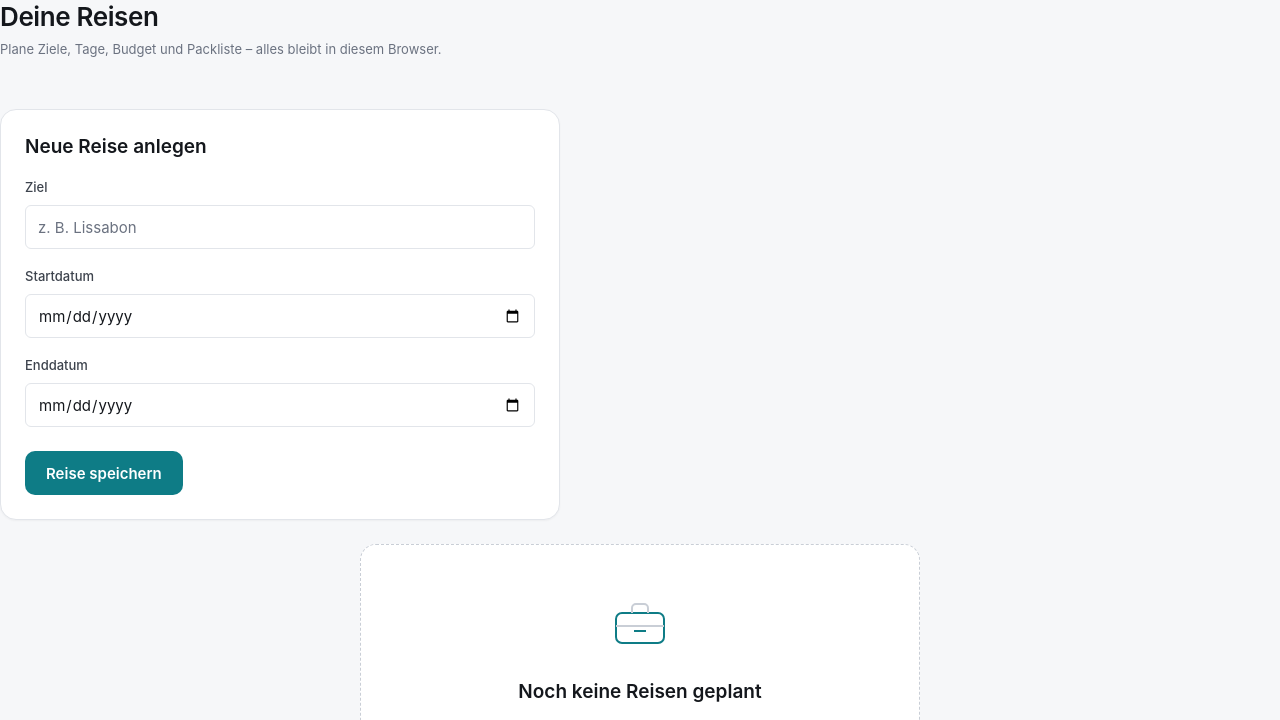
it: TripListPage › keeps the trip when the confirmation is cancelled
The width and height of the screenshot is (1280, 720).
Type "Lissabon" into the field labelled "Ziel" at (280, 227), box [25, 205, 535, 249]
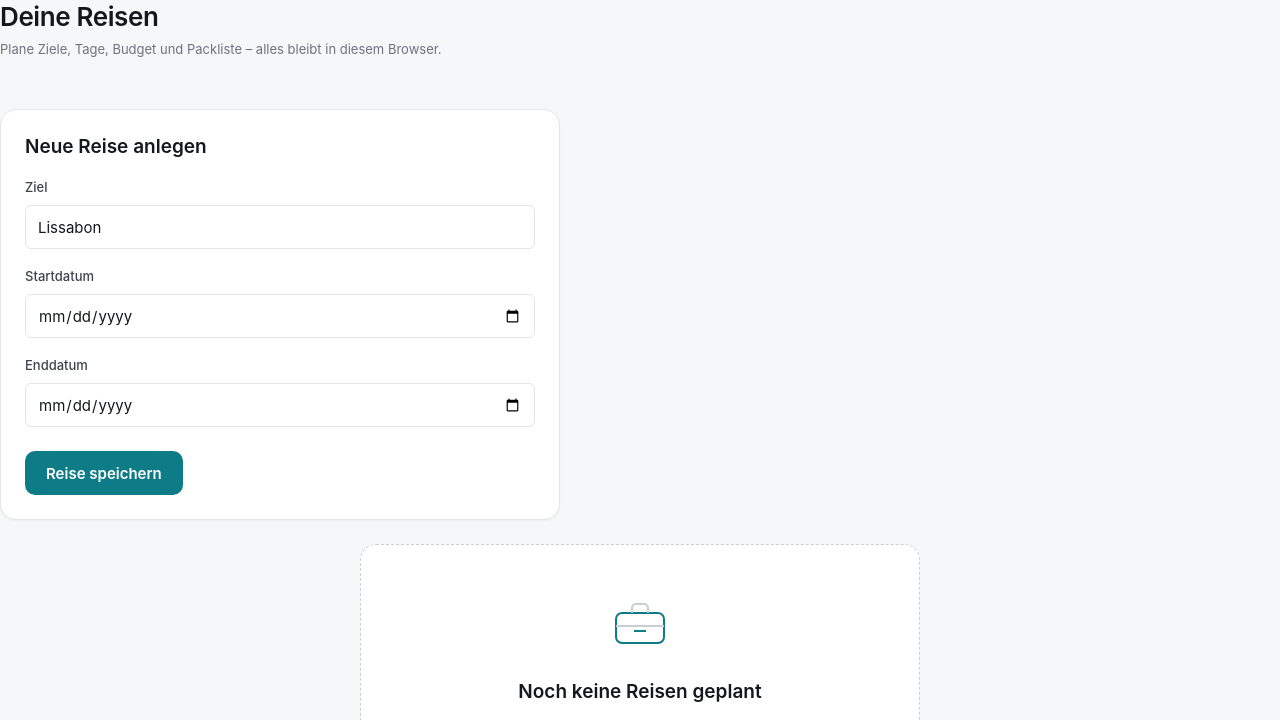
Type "2025-05-12" into the date field labelled "Startdatum" at (280, 316), box [25, 294, 535, 338]
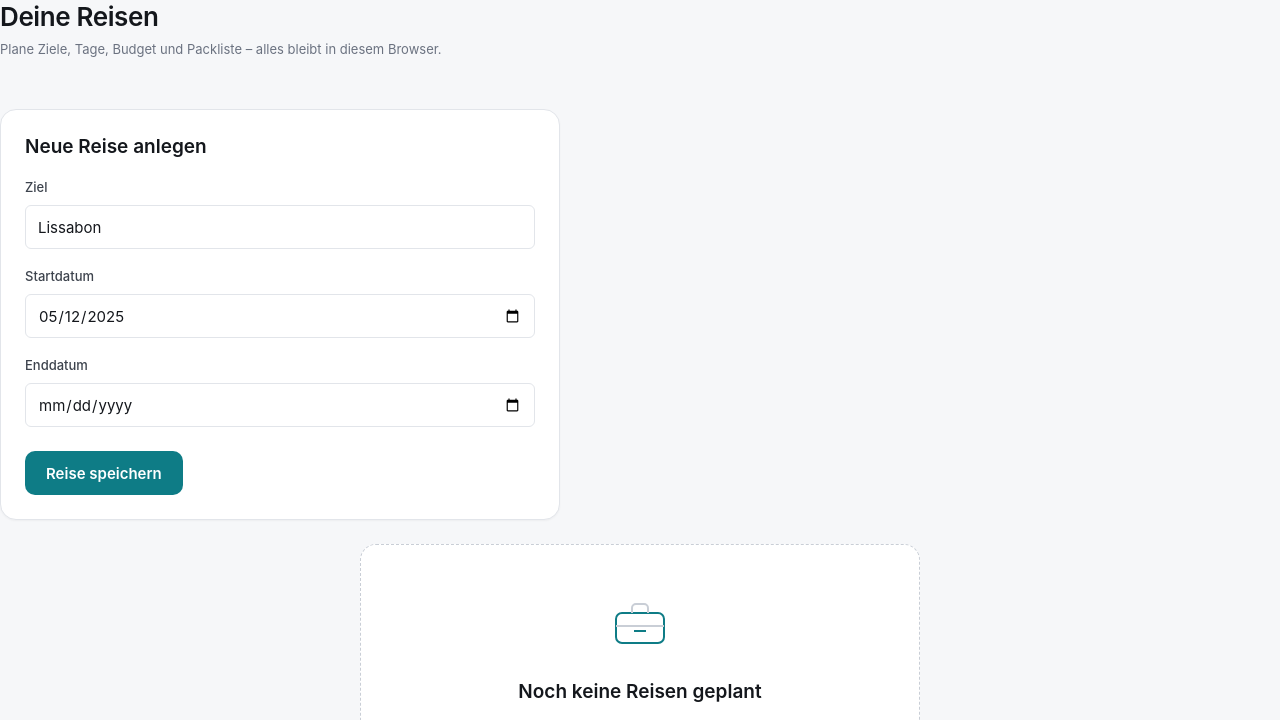
Type "2025-05-18" into the date field labelled "Enddatum" at (280, 405), box [25, 383, 535, 427]
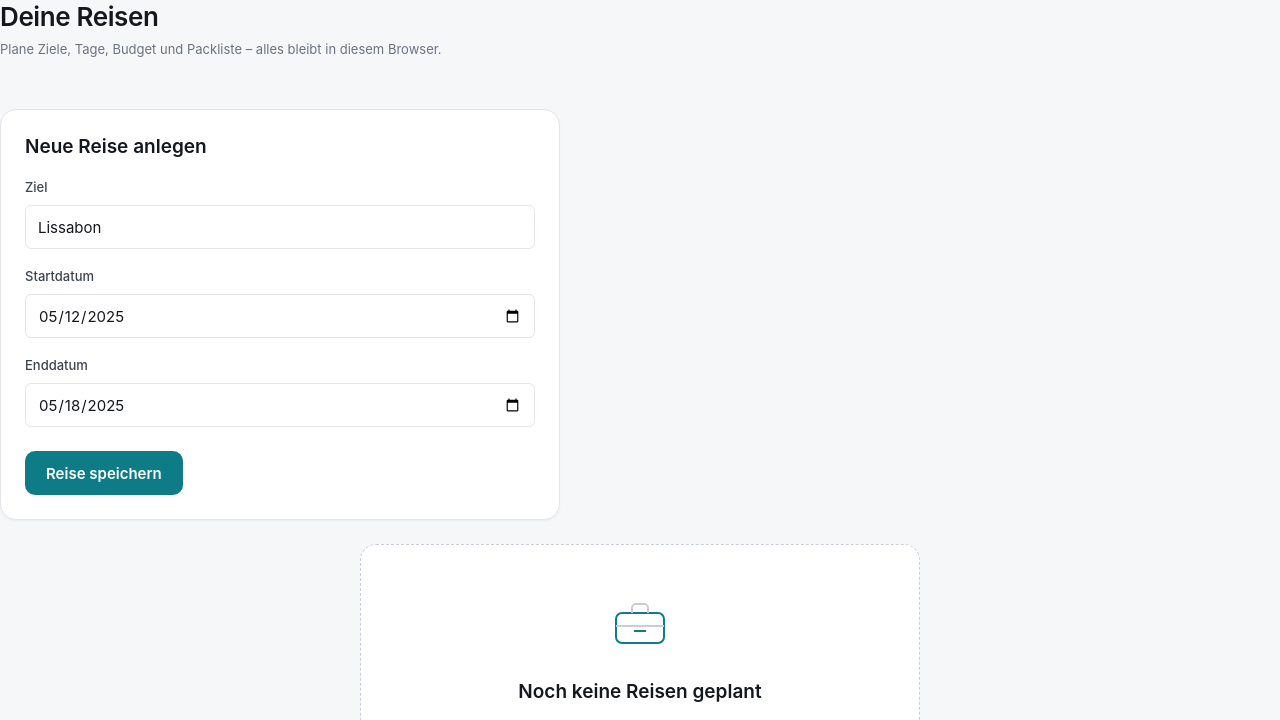
Click the button "Reise speichern" at (104, 473), box [25, 451, 183, 495]
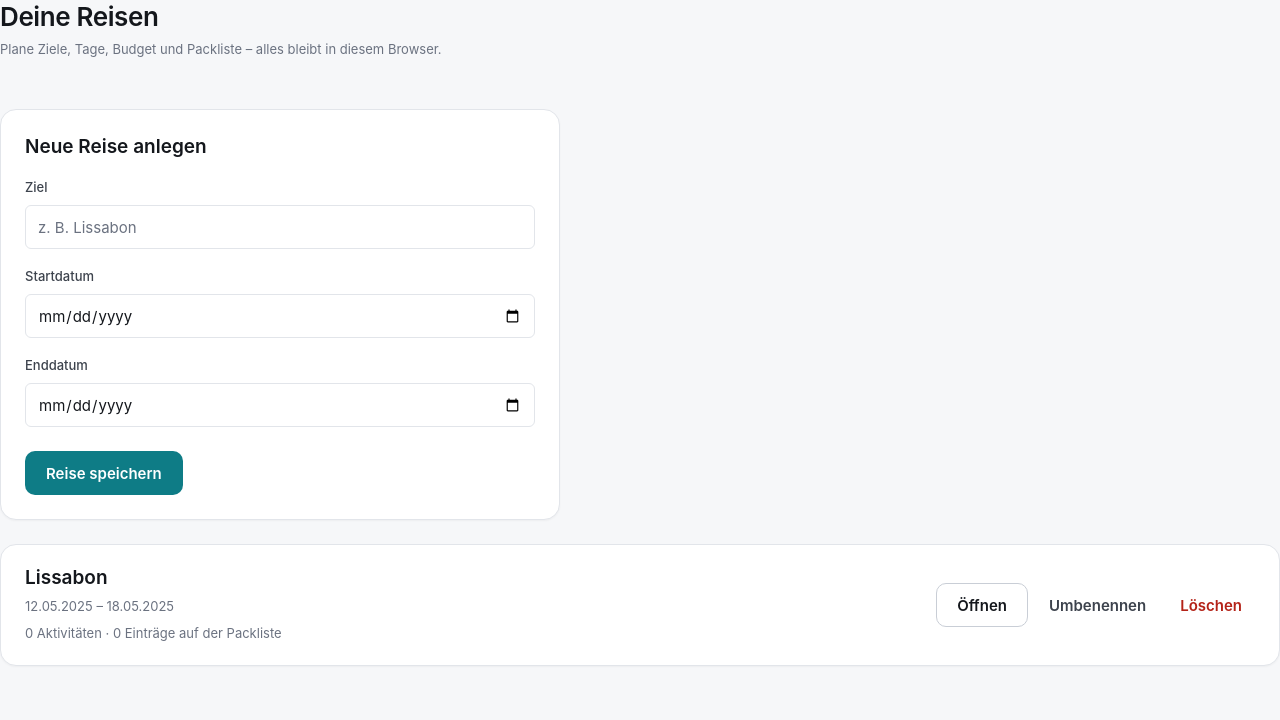
Click the button with aria-label "Reise Lissabon löschen" at (1211, 605), box [1167, 583, 1255, 627]
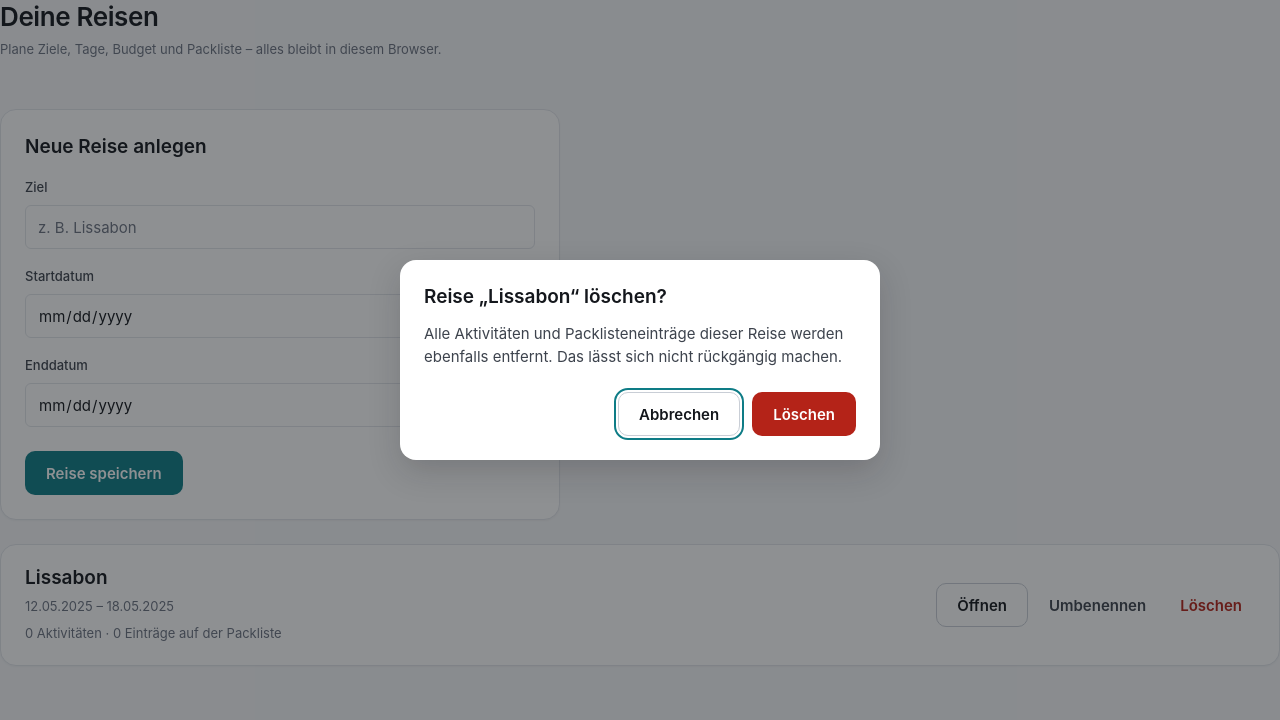
Click the button "Abbrechen" at (679, 414), box [618, 392, 740, 436]
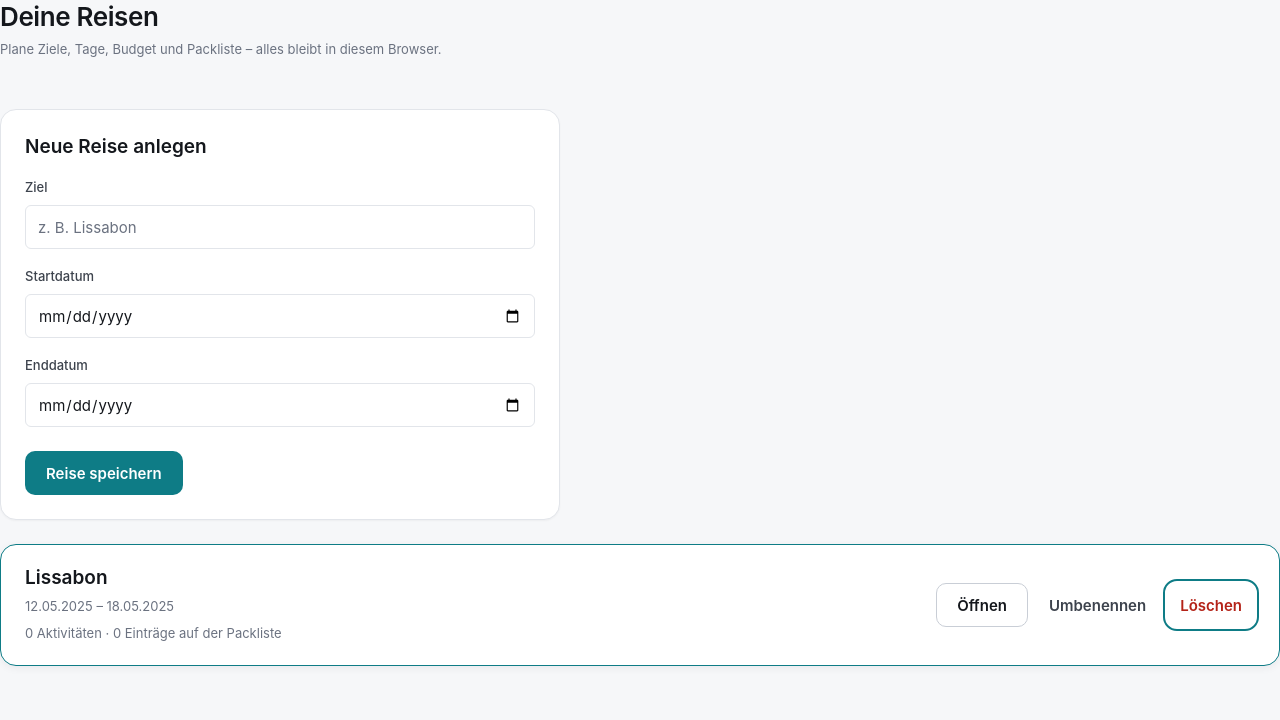
Check: the heading "Lissabon" is shown, box [25, 566, 108, 589]
Check: the dialog is gone
